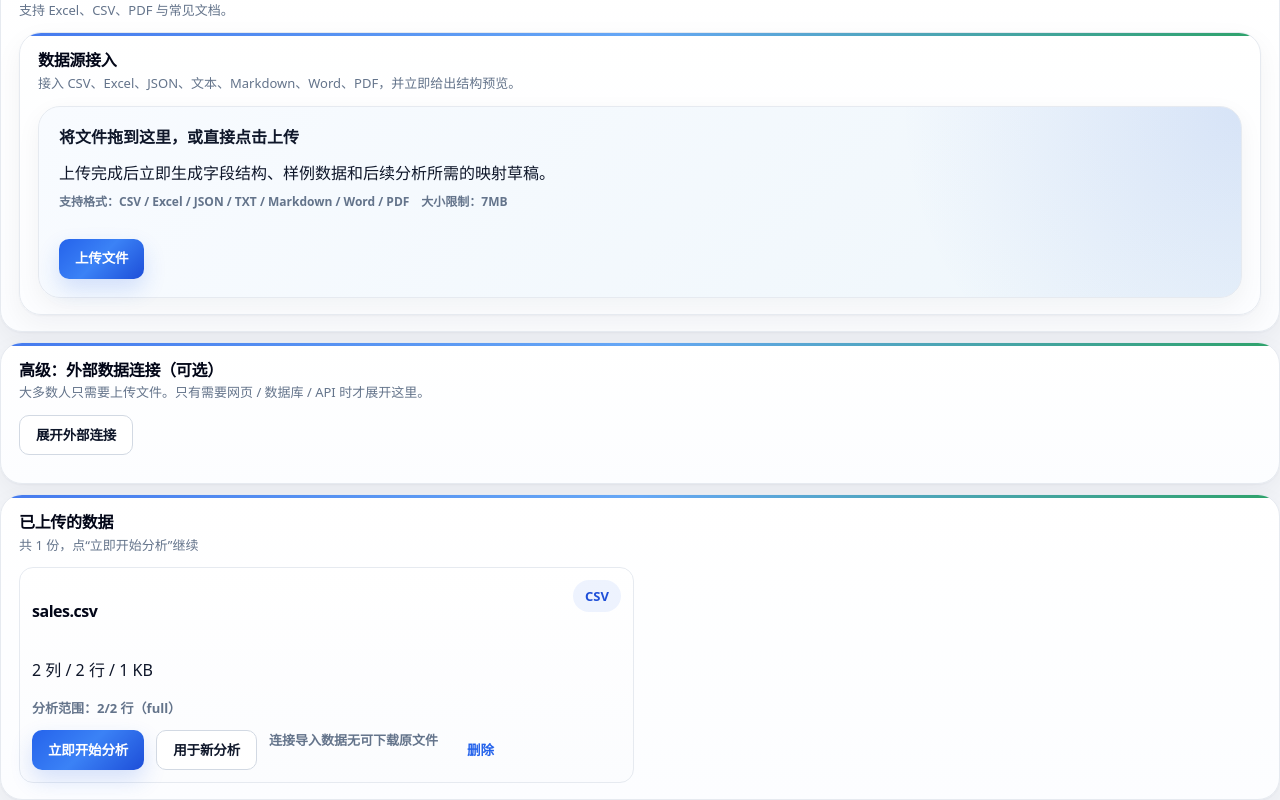
Test case: data sources page › binds a persisted dataset to the active task
(page scrolled)
expect the heading "sales.csv" is shown: met, box [32,602,97,620]
Click the button "用于新分析".
click(207, 750)  # box [156,730,257,770]
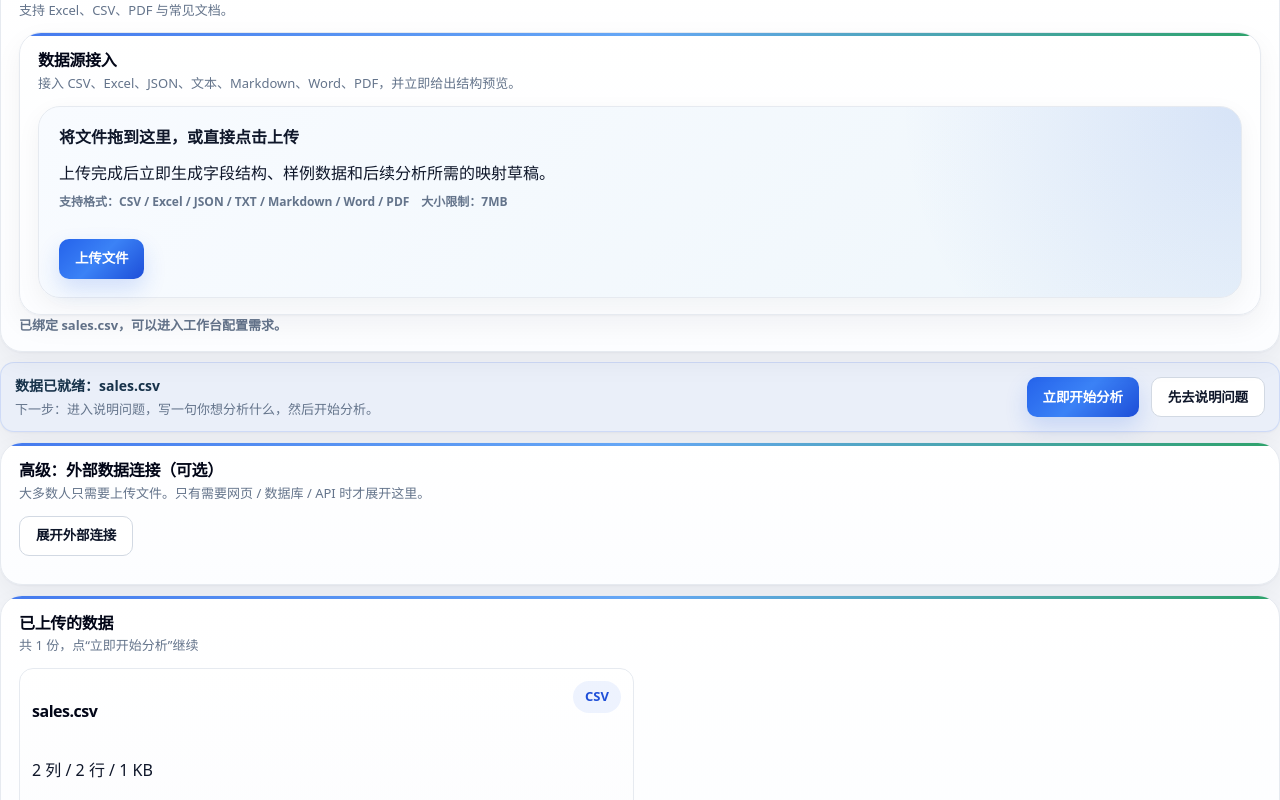
expect the heading "sales.csv" is shown: met, box [32,702,97,721]
expect the text "已绑定 sales.csv，可以进入工作台配置需求。" is shown: met, box [19,316,287,334]
